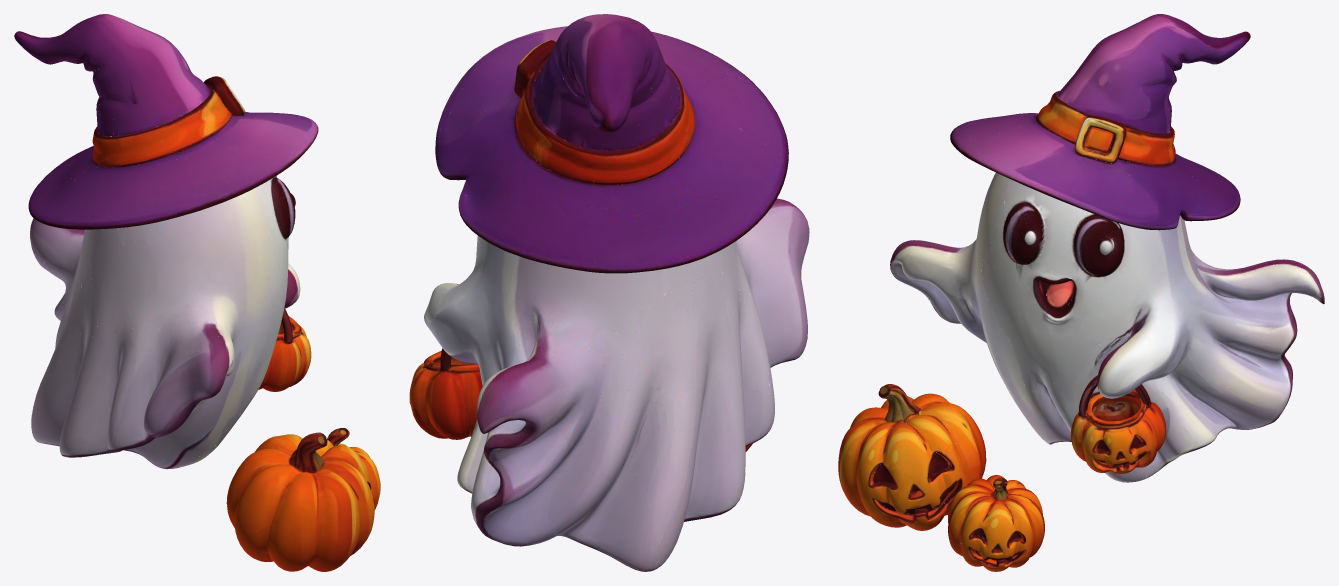
The model's file is ghost.glb.
3 renders of one model, left to right at view 1: azimuth 30°, elevation 25°; view 2: azimuth 150°, elevation 25°; view 3: azimuth 270°, elevation 25°, orthographic. The views are drawn at different scales.
Parts seen in each view (by area): view 1: tripo_node_c5d1eb2d-0b21-4fd8-ad86-d06fc083428f; view 2: tripo_node_c5d1eb2d-0b21-4fd8-ad86-d06fc083428f; view 3: tripo_node_c5d1eb2d-0b21-4fd8-ad86-d06fc083428f.
Boxes of the visible parts, <box> form: tripo_node_c5d1eb2d-0b21-4fd8-ad86-d06fc083428f: <box>14,14,380,571</box>; tripo_node_c5d1eb2d-0b21-4fd8-ad86-d06fc083428f: <box>409,14,809,571</box>; tripo_node_c5d1eb2d-0b21-4fd8-ad86-d06fc083428f: <box>838,14,1324,571</box>.
Size of the model in its own units: 0.5921 by 0.9805 by 0.9074.
Materials: 1 (1 with a texture image).
